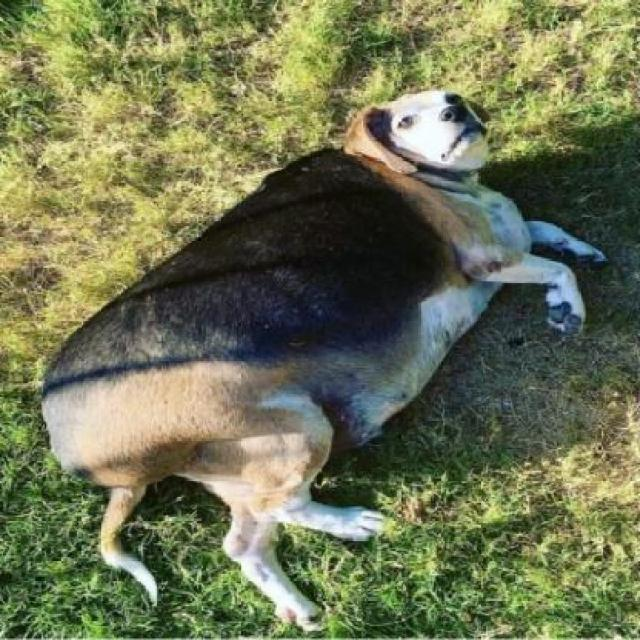Dog: (43, 86, 609, 632)
